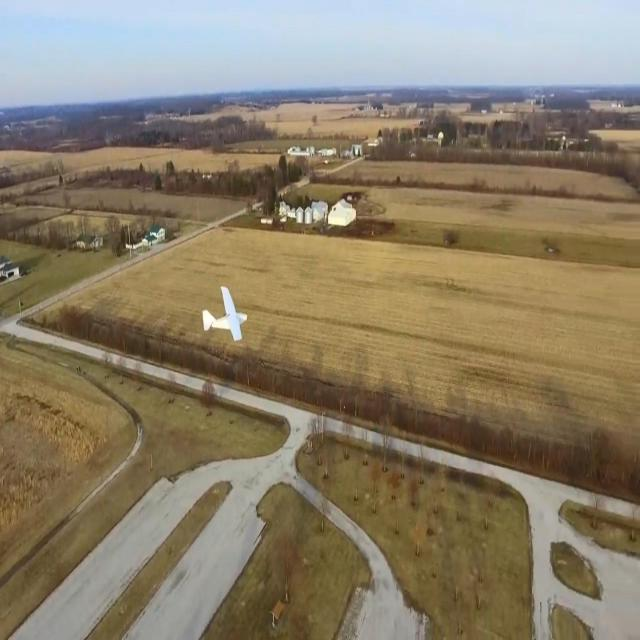iha: (230, 312, 236, 316)
